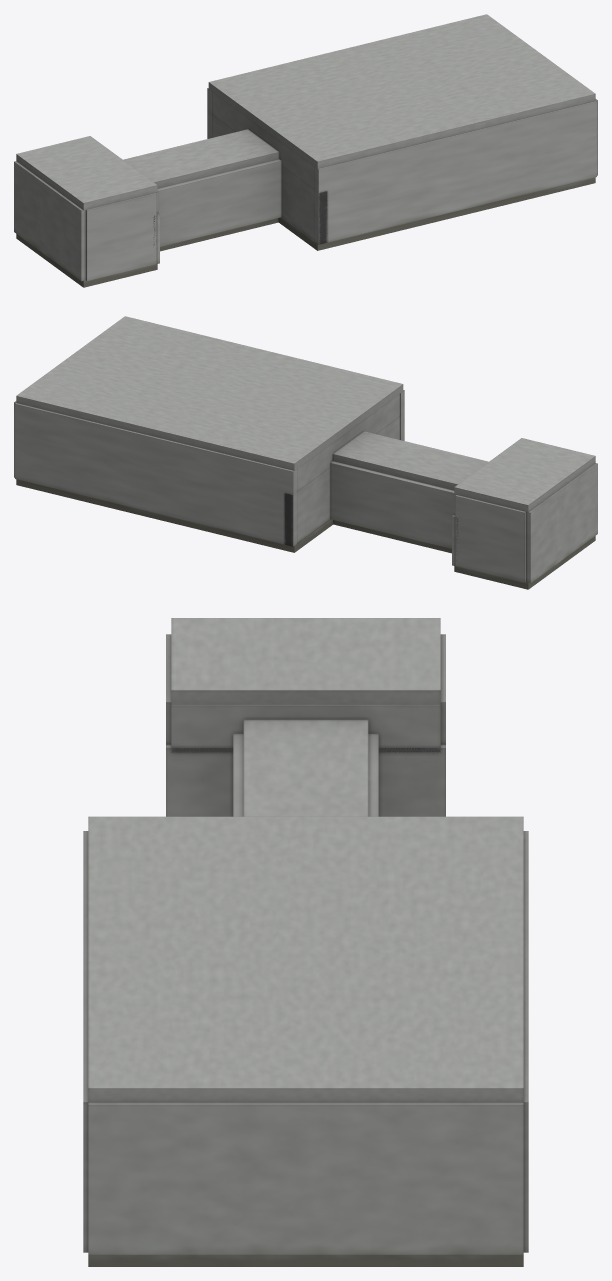
The model's file is bunker_interior.glb.
The picture shows the model from 3 angles, top to bottom: view 1: azimuth 30°, elevation 25°; view 2: azimuth 150°, elevation 25°; view 3: azimuth 270°, elevation 25°; orthographic projection. The views are drawn at different scales.
Parts seen in each view (by area): view 1: bunker_interior; view 2: bunker_interior; view 3: bunker_interior.
Boxes of the visible parts, bbox=[...] form: bunker_interior: bbox=[14, 14, 597, 287]; bunker_interior: bbox=[14, 316, 597, 589]; bunker_interior: bbox=[83, 618, 528, 1266].
Bounding box in the file's own units: 22.1 × 3.8 × 8.6.
Materials: 1 (1 with a texture image).
